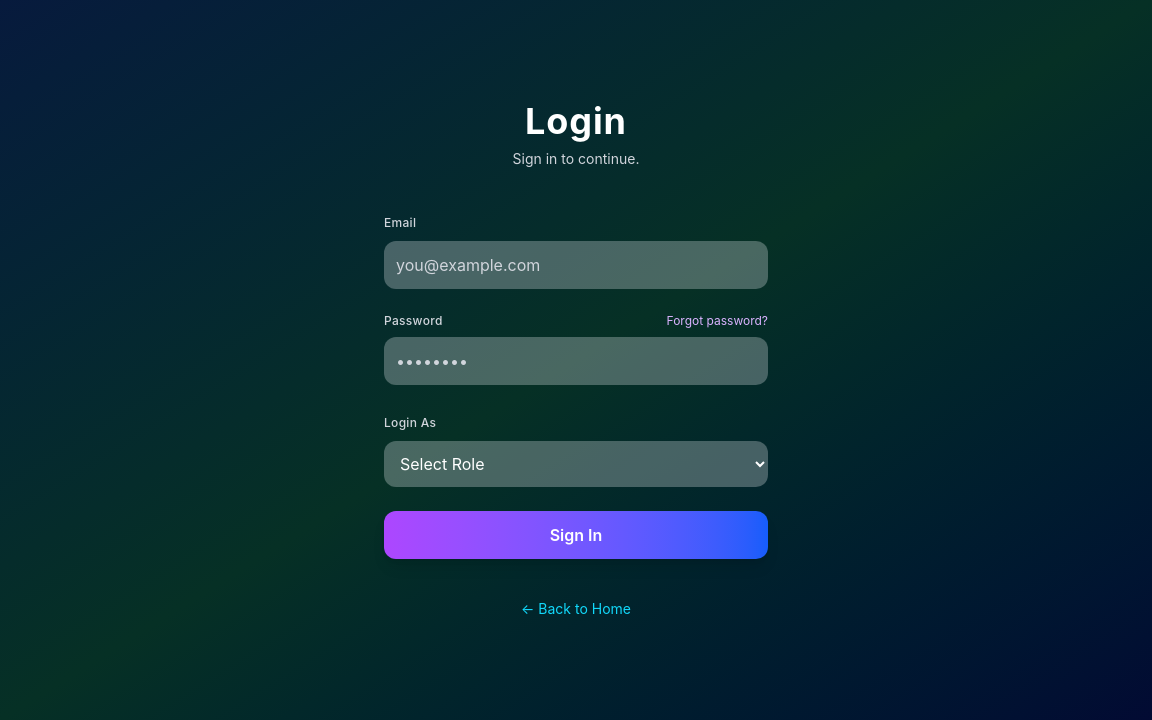
Test: shows validation errors when form is empty
The image size is (1152, 720).
Click the button "Sign In".
click(576, 535)  # box [384,511,768,559]
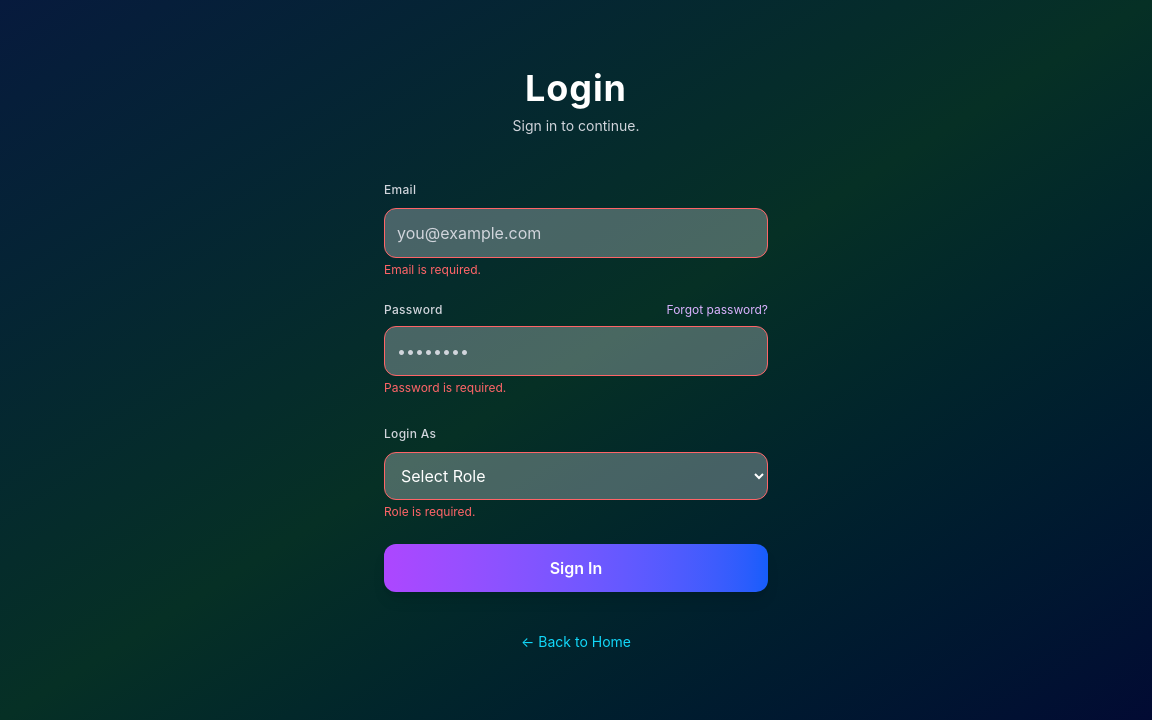
expect the text "Email is required." is shown: met, box [384,262,481,277]
expect the text "Password is required." is shown: met, box [384,380,506,395]
expect the text "Role is required." is shown: met, box [384,504,475,519]
